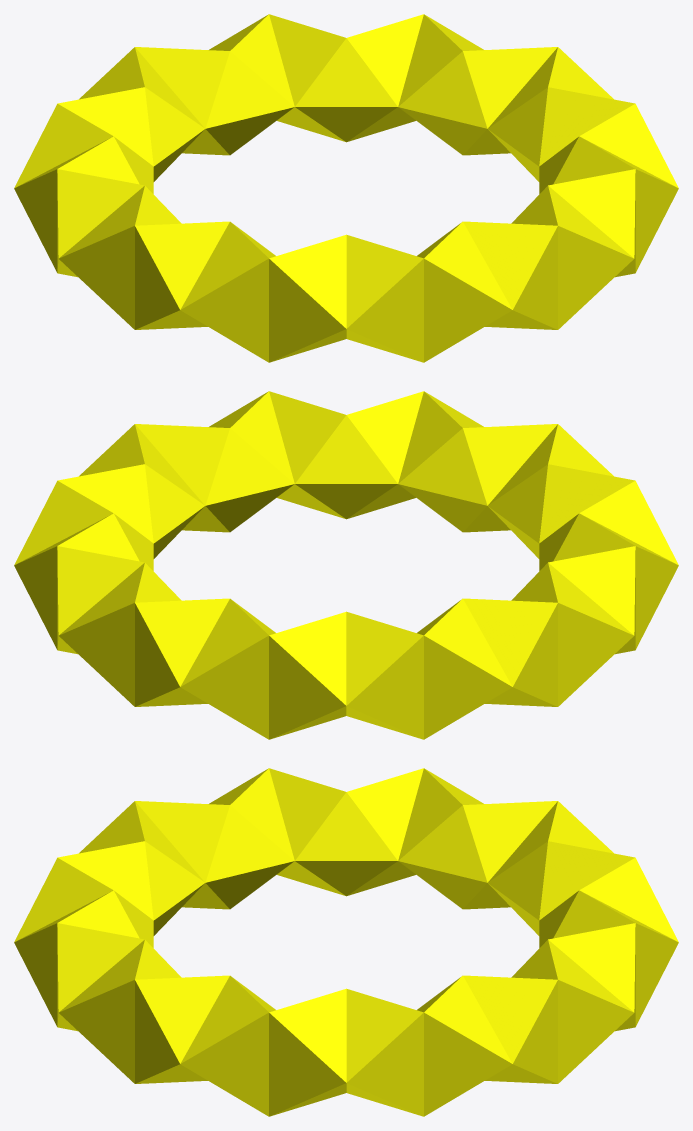
Rendered from gold.obj.
3 renders of one model, top to bottom at view 1: azimuth 30°, elevation 25°; view 2: azimuth 150°, elevation 25°; view 3: azimuth 270°, elevation 25°, orthographic.
Visible parts, largest first — view 1: Torus.001; view 2: Torus.001; view 3: Torus.001.
Boxes of the visible parts, x1,y1,x2,y2 form: Torus.001: (14, 14, 678, 362); Torus.001: (14, 391, 678, 739); Torus.001: (14, 768, 678, 1116).
Size of the model in its own units: 5 by 0.866 by 5.
